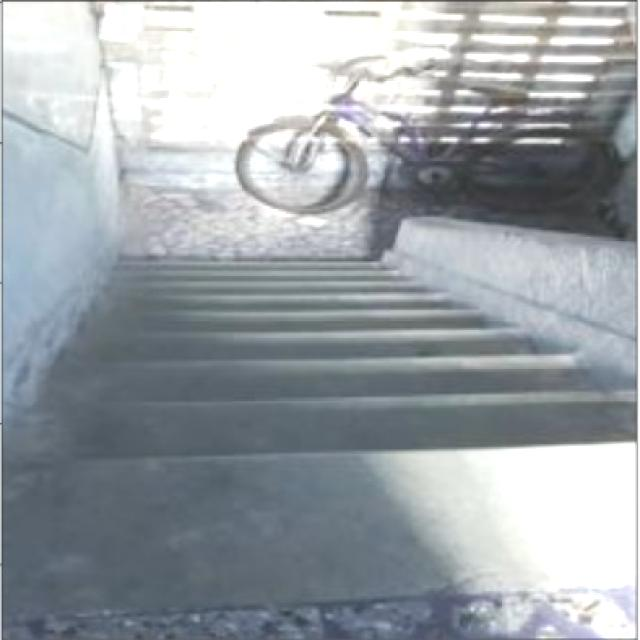stair: (91, 206, 524, 546)
